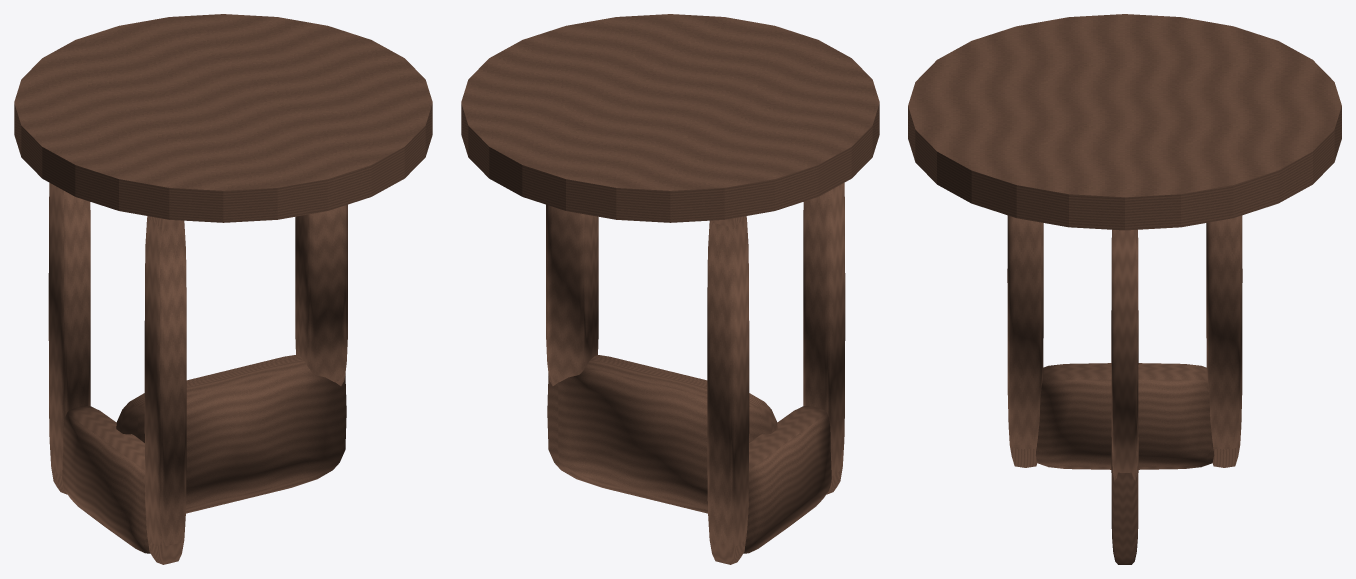
The picture shows the model from 3 angles, left to right: view 1: azimuth 30°, elevation 25°; view 2: azimuth 150°, elevation 25°; view 3: azimuth 270°, elevation 25°; orthographic projection. The views are drawn at different scales.
Visible parts, largest first — view 1: 1 tabletop, 5 right_fin_lower, 2 front_left_leg, 3 back_left_leg, 4 left_base_bridge, 6 right_fin_upper; view 2: 1 tabletop, 5 right_fin_lower, 3 back_left_leg, 2 front_left_leg, 4 left_base_bridge, 6 right_fin_upper; view 3: 1 tabletop, 4 left_base_bridge, 2 front_left_leg, 3 back_left_leg, 6 right_fin_upper, 5 right_fin_lower.
Boxes of the visible parts, x1,y1,x2,y2 form: 1 tabletop: (14, 14, 432, 222); 5 right_fin_lower: (116, 355, 346, 513); 2 front_left_leg: (144, 216, 186, 564); 3 back_left_leg: (48, 183, 90, 494); 4 left_base_bridge: (62, 406, 150, 553); 6 right_fin_upper: (295, 204, 347, 385); 1 tabletop: (461, 14, 879, 222); 5 right_fin_lower: (547, 355, 777, 513); 3 back_left_leg: (707, 216, 749, 564); 2 front_left_leg: (803, 183, 845, 494); 4 left_base_bridge: (743, 406, 831, 553); 6 right_fin_upper: (546, 204, 598, 385); 1 tabletop: (908, 14, 1341, 230); 4 left_base_bridge: (1035, 363, 1214, 469); 2 front_left_leg: (1007, 215, 1043, 467); 3 back_left_leg: (1206, 215, 1242, 467); 6 right_fin_upper: (1111, 229, 1138, 481); 5 right_fin_lower: (1111, 437, 1138, 564).
Size of the model in its own units: 0.95 by 1 by 0.95.
1 material, 1 textured.
